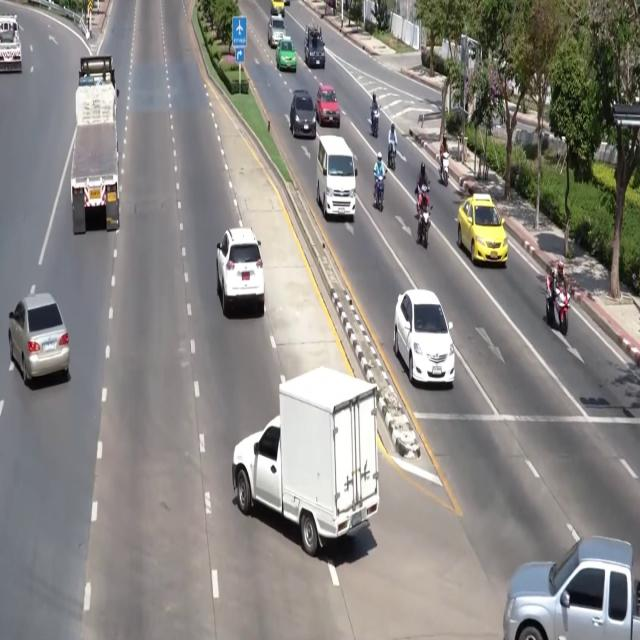car: (393, 289, 455, 387), (9, 293, 69, 384), (217, 228, 264, 316), (458, 194, 508, 266), (290, 90, 316, 138), (316, 85, 340, 127), (304, 23, 325, 68), (276, 36, 296, 71), (268, 16, 286, 47), (270, 0, 284, 16)
scooty: (546, 274, 570, 335), (417, 205, 432, 248), (415, 184, 429, 217), (375, 176, 385, 211), (440, 152, 449, 187), (371, 109, 379, 137), (388, 143, 396, 170)
truck: (232, 368, 379, 556), (503, 537, 639, 639), (71, 56, 119, 233), (0, 15, 21, 71)
